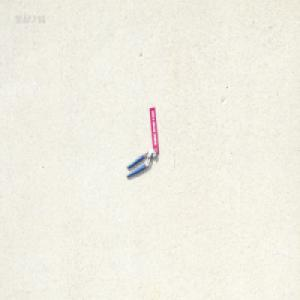Label: (148, 107, 159, 156)
Pliers: (126, 148, 157, 179)
